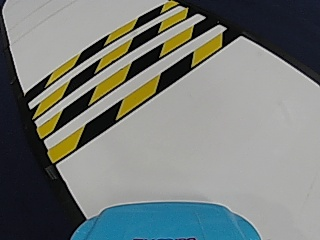bump: (38, 11, 205, 150)
